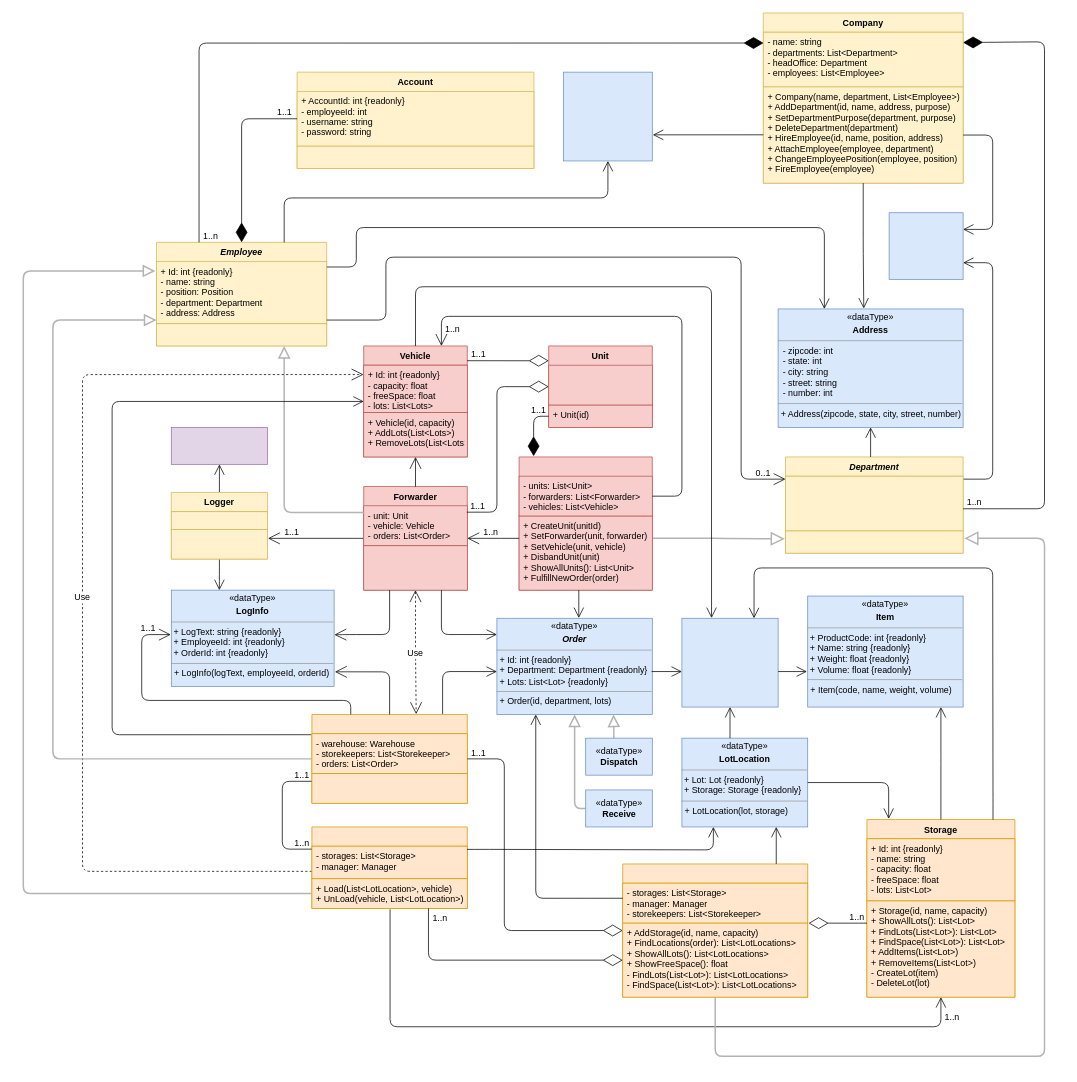
The diagram is 1077 pixels wide and 1082 high, and some of its shapes have lost their labels. The shapes that lost their labels are listed below. From the top down, each one's box as (x1, y1, x2, y2) in pixels, then its label:
(563, 71, 652, 161): «dataType» Position + Id: int {readonly} + Name: string + Position(id, name)
(296, 145, 534, 168): + Account(accountId, employeeId, username, password)
(888, 212, 963, 279): «dataType» Purpose Id: int Name: string
(156, 323, 327, 346): + Employee(id, name, position, address)
(548, 364, 652, 405): + Id: int {readonly} - forwarder: Forwarder - vehicle: Vehicle
(171, 427, 268, 464): «interface» ILogWriter
(171, 511, 268, 529): - logWriter: ILogWriter
(518, 456, 652, 590): Delivery
(785, 475, 963, 531): + Id: int {readonly} - name: string - address: Address - purpose: Purpose
(171, 529, 268, 559): + Logger(logWriter) + WriteLog(logInfo)
(785, 530, 963, 553): + Department(id, name, address, purpose)
(363, 545, 467, 590): + AddOrder(order) - RemoveOrder(order) + Confirmation(bool)
(681, 618, 778, 707): «dataType» Lot + Item: Item {readonly} - amount: int + Lot(item, amount)
(311, 714, 467, 803): Manager
(311, 773, 467, 803): + TakeOrder(order, vehicle) + Confirmation(bool)
(311, 826, 467, 908): Storekeeper
(622, 863, 808, 997): Warehouse
